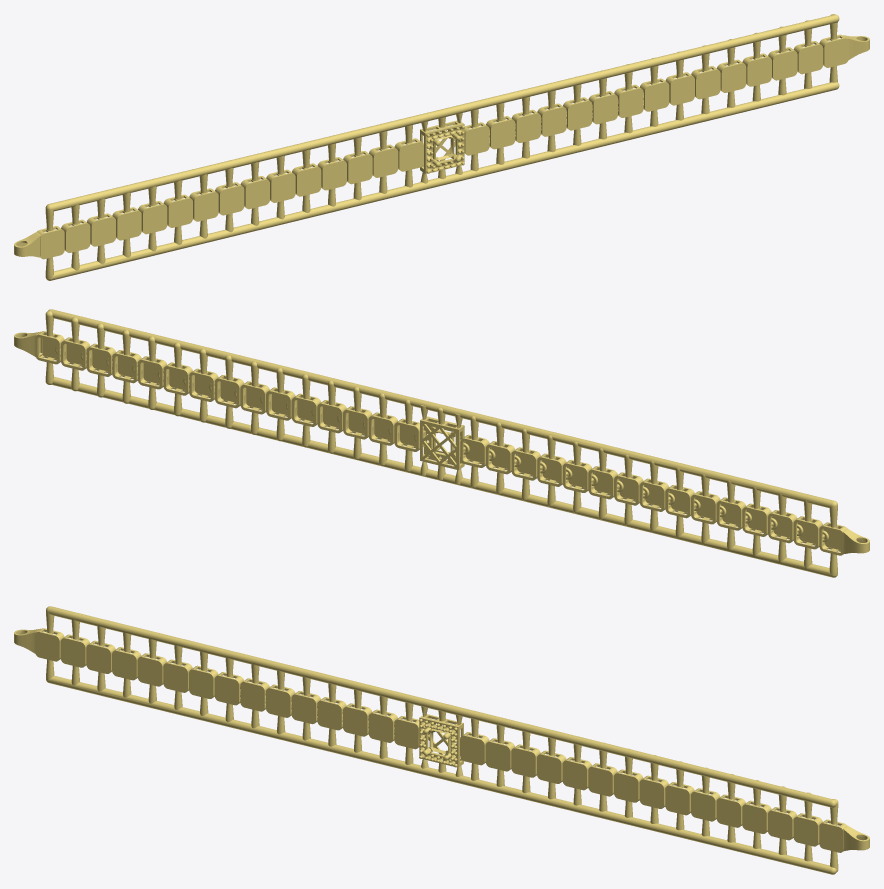
The model's file is yzn5-97_3.glb.
3 views of the same model, one above another, from view 1: azimuth 30°, elevation 25°; view 2: azimuth 150°, elevation 25°; view 3: azimuth 330°, elevation 25° (orthographic).
Visible parts, largest first — view 1: Renderer Node; view 2: Renderer Node; view 3: Renderer Node.
Part boxes in pixels (<box>): Renderer Node: <box>14,14,869,280</box>; Renderer Node: <box>14,309,869,577</box>; Renderer Node: <box>14,606,869,874</box>.
Bounding box in the file's own units: 175 × 14.92 × 3.9.
